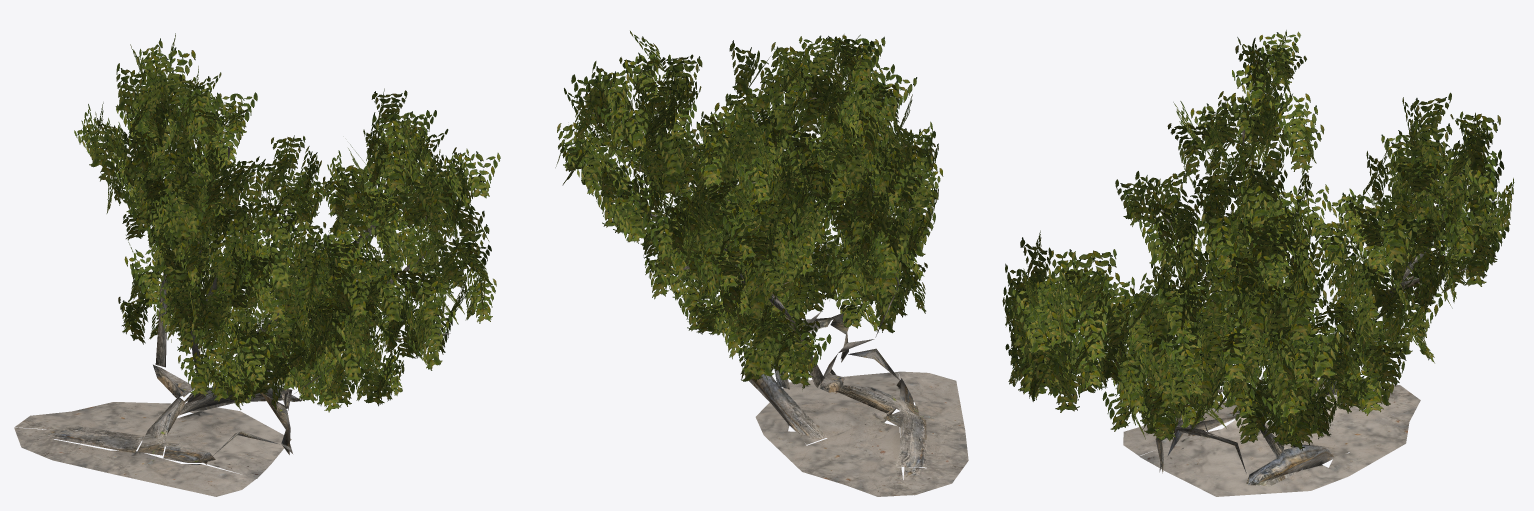
The model's file is island-tree-lod.glb.
3 views of the same model, side by side, from view 1: azimuth 30°, elevation 25°; view 2: azimuth 150°, elevation 25°; view 3: azimuth 270°, elevation 25° (orthographic). The views are drawn at different scales.
Visible parts, largest first — view 1: open_island_leaves_distance, open_island_trunk_distance; view 2: open_island_leaves_distance, open_island_trunk_distance; view 3: open_island_leaves_distance, open_island_trunk_distance.
Boxes of the visible parts, <box> form: open_island_leaves_distance: <box>74,33,500,412</box>; open_island_trunk_distance: <box>14,167,450,496</box>; open_island_leaves_distance: <box>555,31,943,389</box>; open_island_trunk_distance: <box>628,169,968,496</box>; open_island_leaves_distance: <box>1002,30,1514,450</box>; open_island_trunk_distance: <box>1035,208,1467,496</box>.
Size of the model in its own units: 9.15 by 8.05 by 9.03.
Materials: 3 (3 with a texture image).
